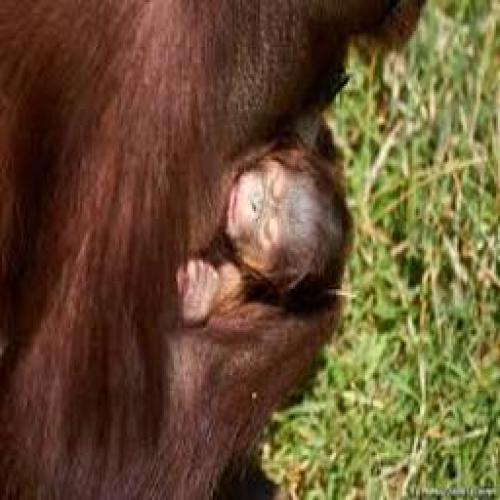orangutan-endangered: (10, 6, 432, 487), (156, 138, 357, 331)
